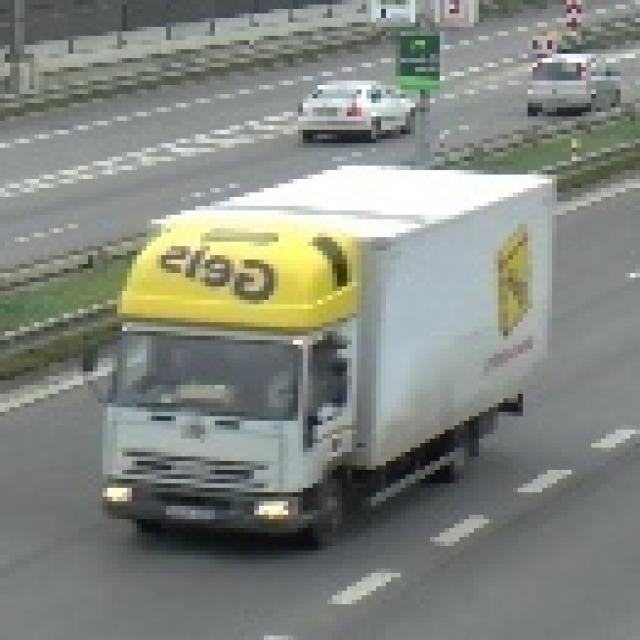Truck: (83, 157, 552, 546)
